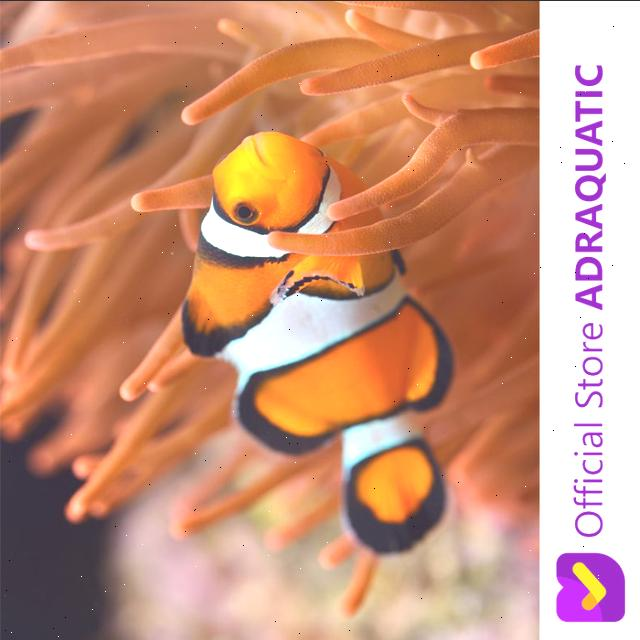Mulut: (228, 105, 302, 207)
Sirip Anal: (390, 296, 470, 422)
Sirip Dada: (252, 220, 376, 326)
Sirip Ekor: (323, 424, 461, 574)
Sirip Punggung: (165, 259, 329, 461)
